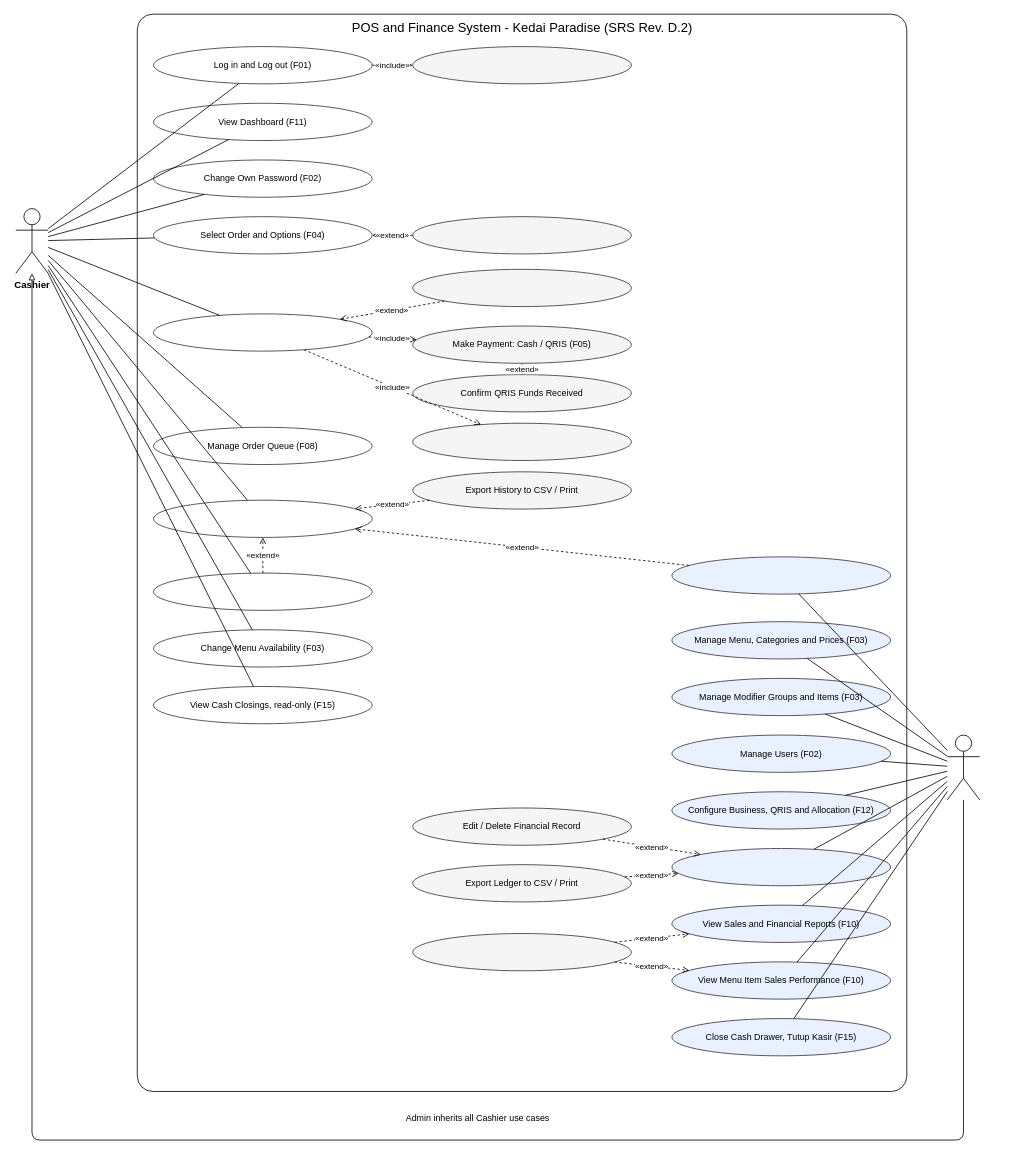
This 1012x1161 diagram has some shape labels left out. Each missing label, with the box of its shape:
Admin / Owner: (946, 734, 980, 800)
Calculate Profit and Fund Allocation (F13): (412, 422, 631, 460)
Check Login Rate Limit: (412, 46, 631, 84)
Choose Modifier Options: (412, 216, 631, 254)
Complete Transaction (F06): (153, 313, 372, 351)
Export Report / Menu Performance to CSV / Print: (412, 933, 631, 971)
Print Receipt (F07): (412, 269, 631, 307)
Record Manual Income and Expenses (F14): (671, 848, 891, 886)
Reprint Receipt (F07): (153, 572, 372, 610)
View Transaction History (F09): (153, 499, 372, 537)
Void Order with Reason, Admin only (F09): (671, 556, 891, 594)
